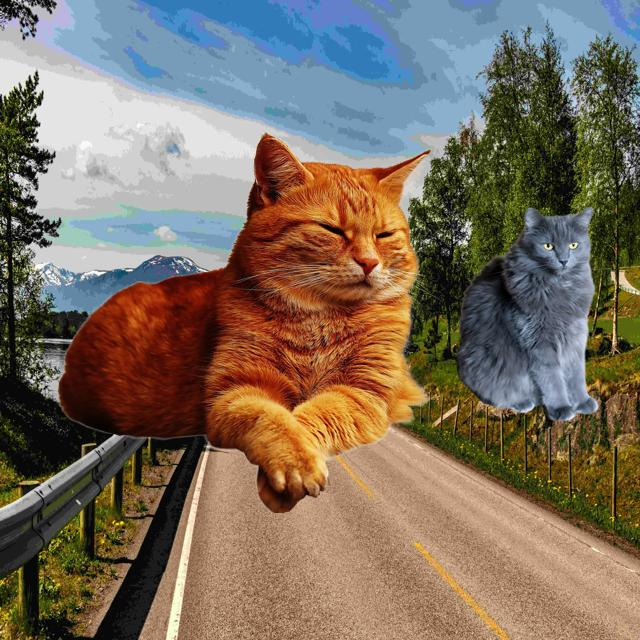cat: (59, 127, 447, 511), (454, 205, 600, 423)
